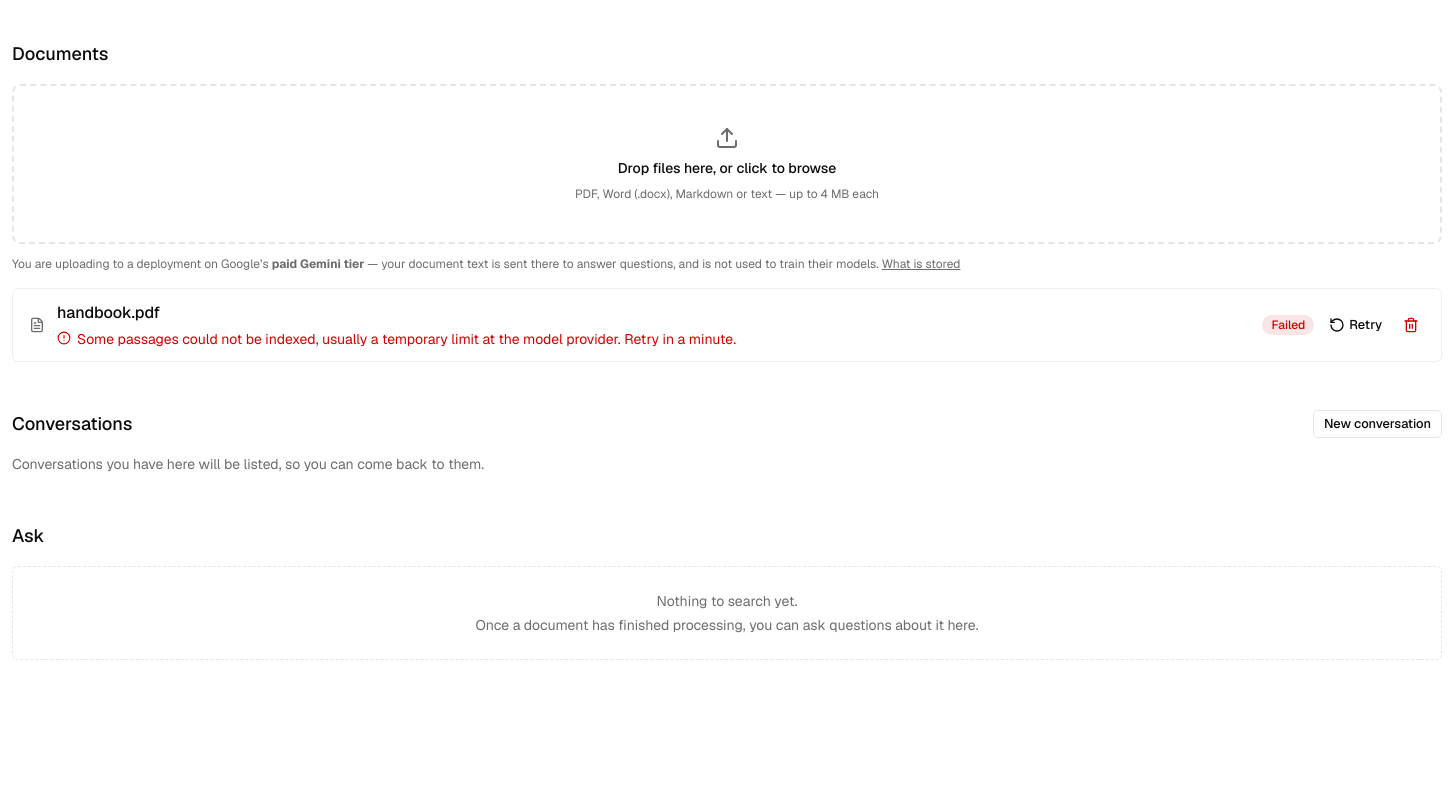
Test: a delete or retry that fails › gives a refused retry the server's reason
What coordinates should you click on to do the following:
click the button "Retry"
I would click on:
 (1356, 325)
Its box is x1=1318 y1=311 x2=1393 y2=339.
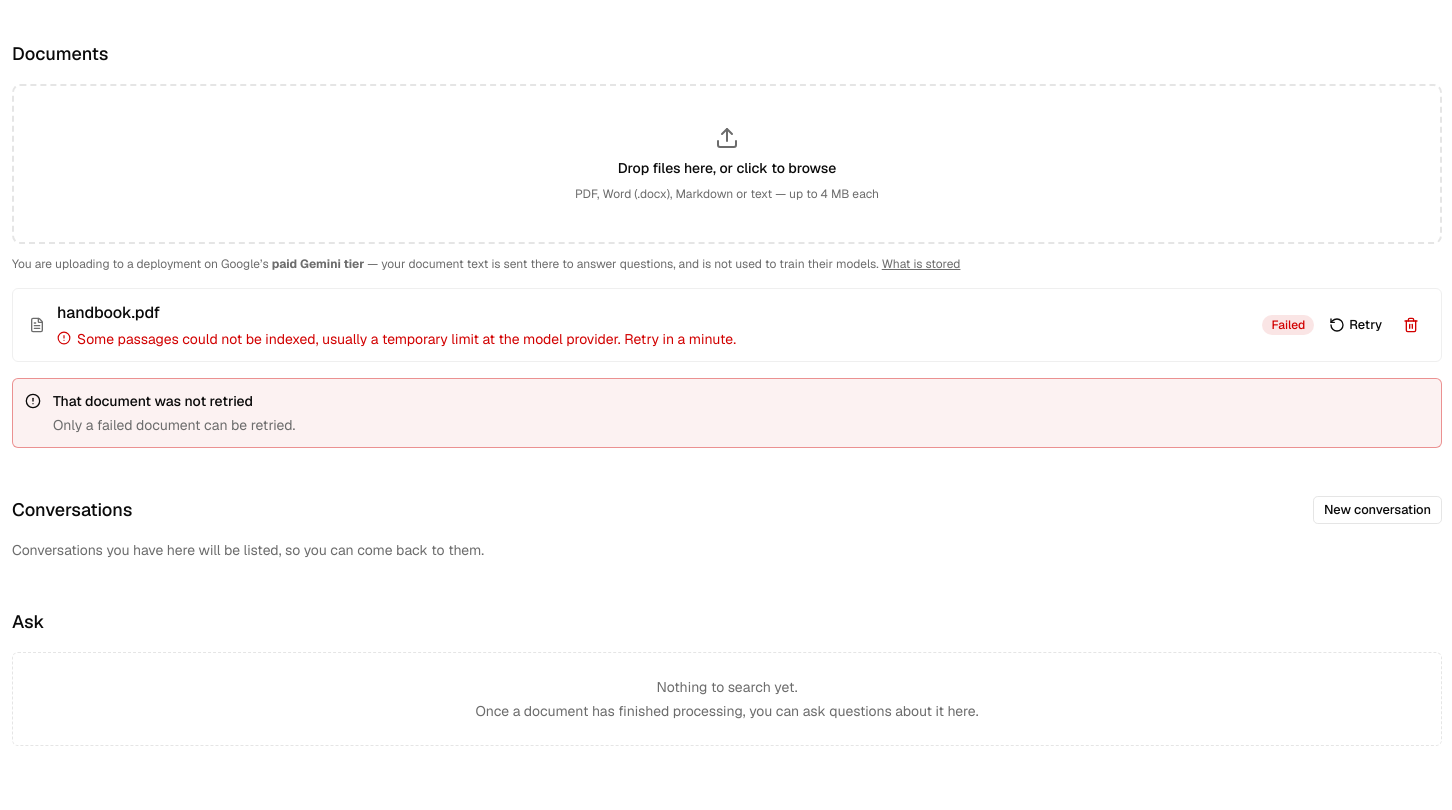
Expected: the text "Only a failed document can be retried." is shown, x1=53 y1=416 x2=295 y2=434
